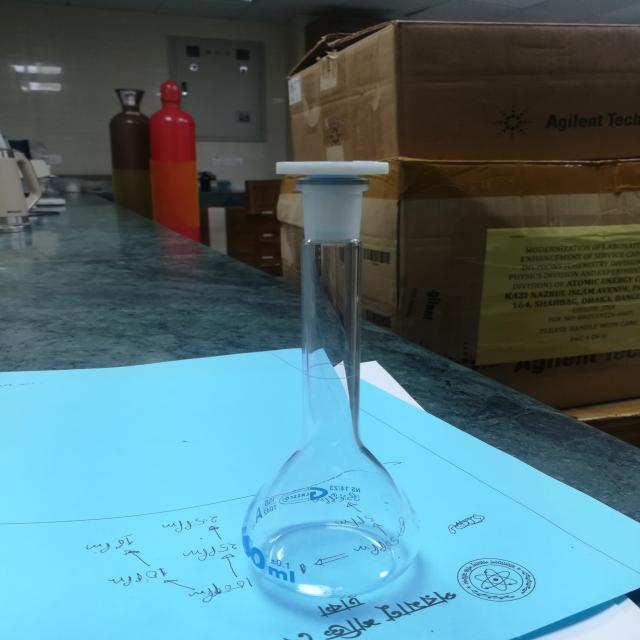Volumetric_Flask: (170, 116, 480, 612)
